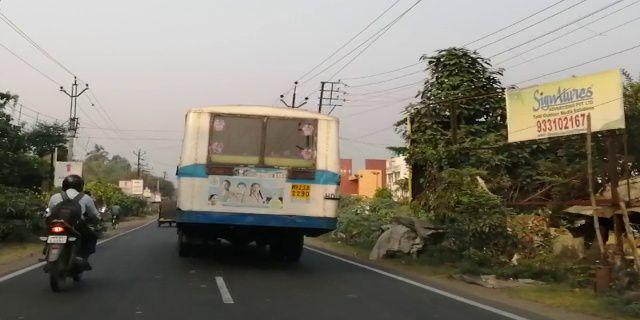Bus: (169, 100, 341, 267)
Motorbike: (31, 170, 111, 294)
